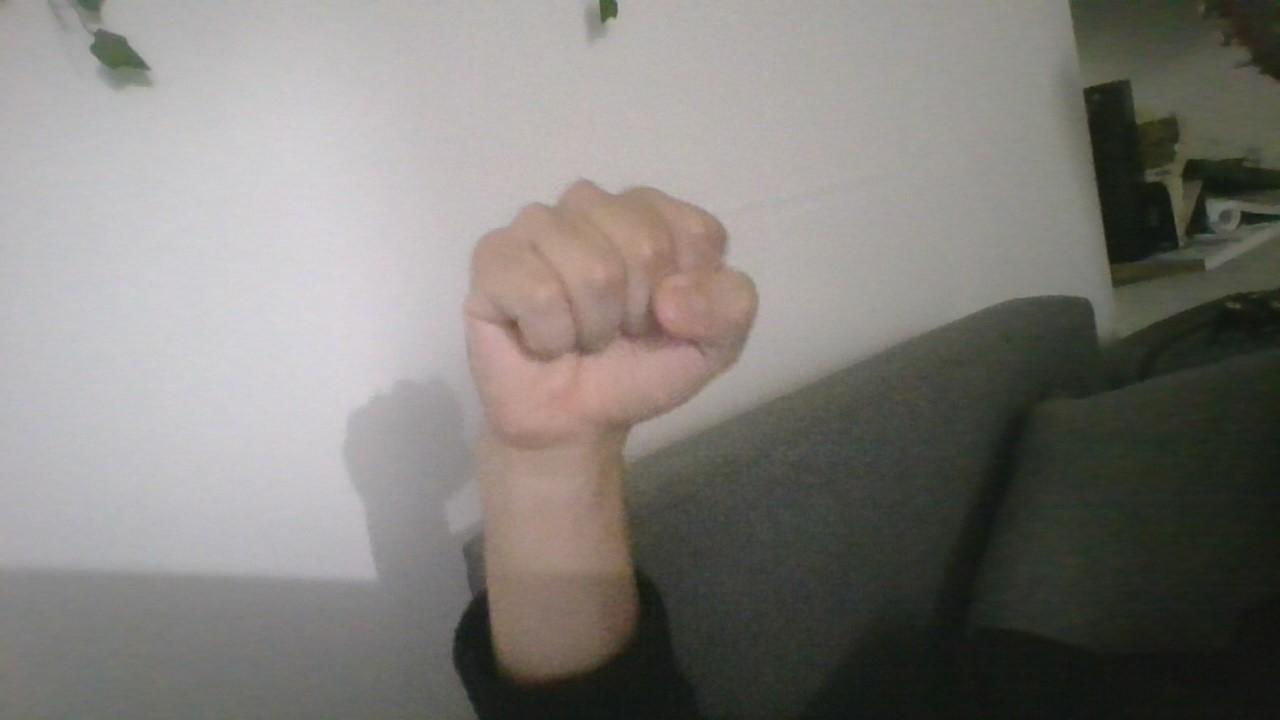stop: (447, 146, 776, 456)
